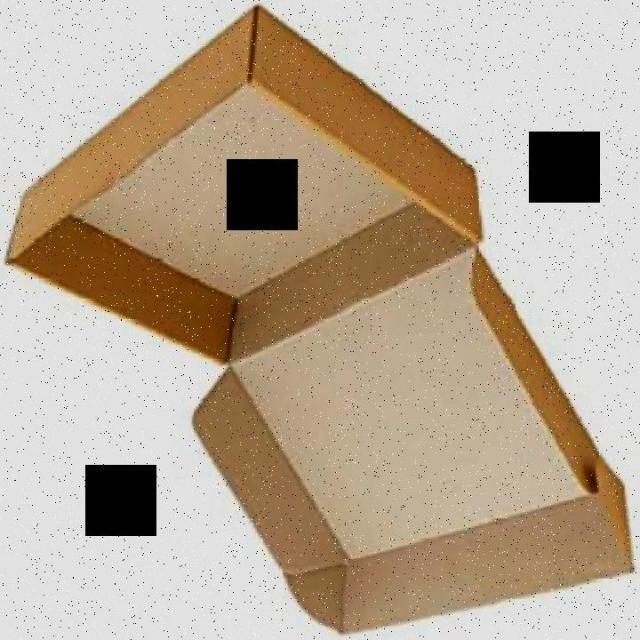box: (2, 2, 640, 634)
